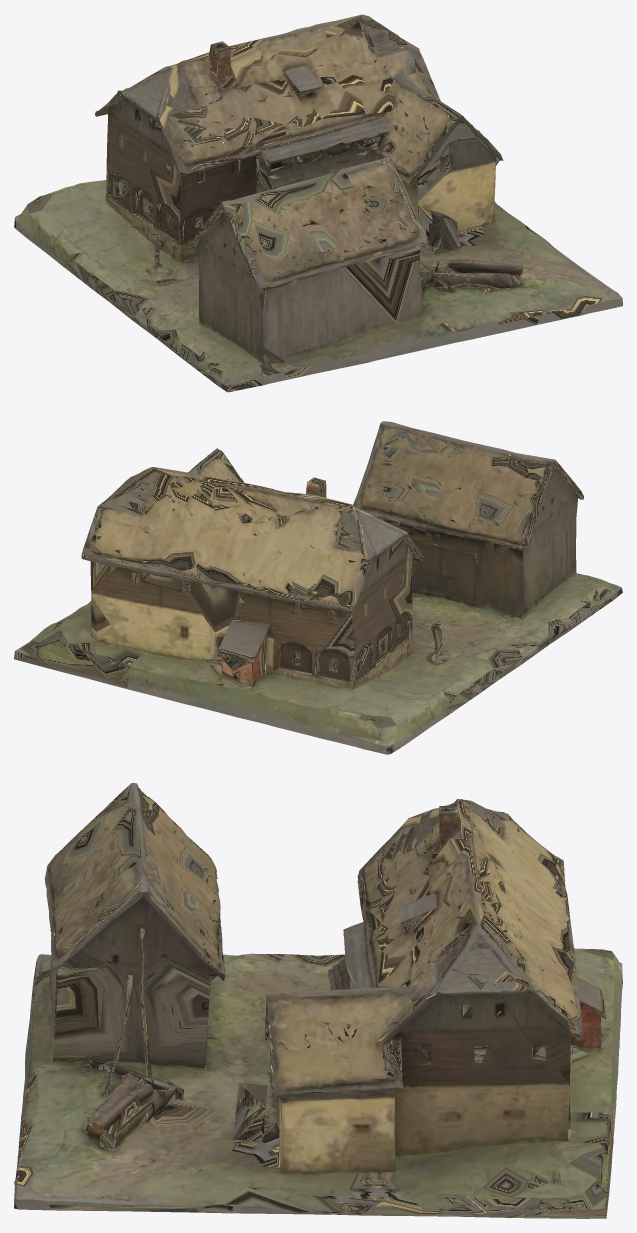
Rendered from country_lo.glb.
3 views of the same model, one above another, from view 1: azimuth 30°, elevation 25°; view 2: azimuth 150°, elevation 25°; view 3: azimuth 270°, elevation 25° (orthographic). The views are drawn at different scales.
Bounding box in the file's own units: 16.75 × 7.89 × 17.11.
2 materials, 2 textured.
